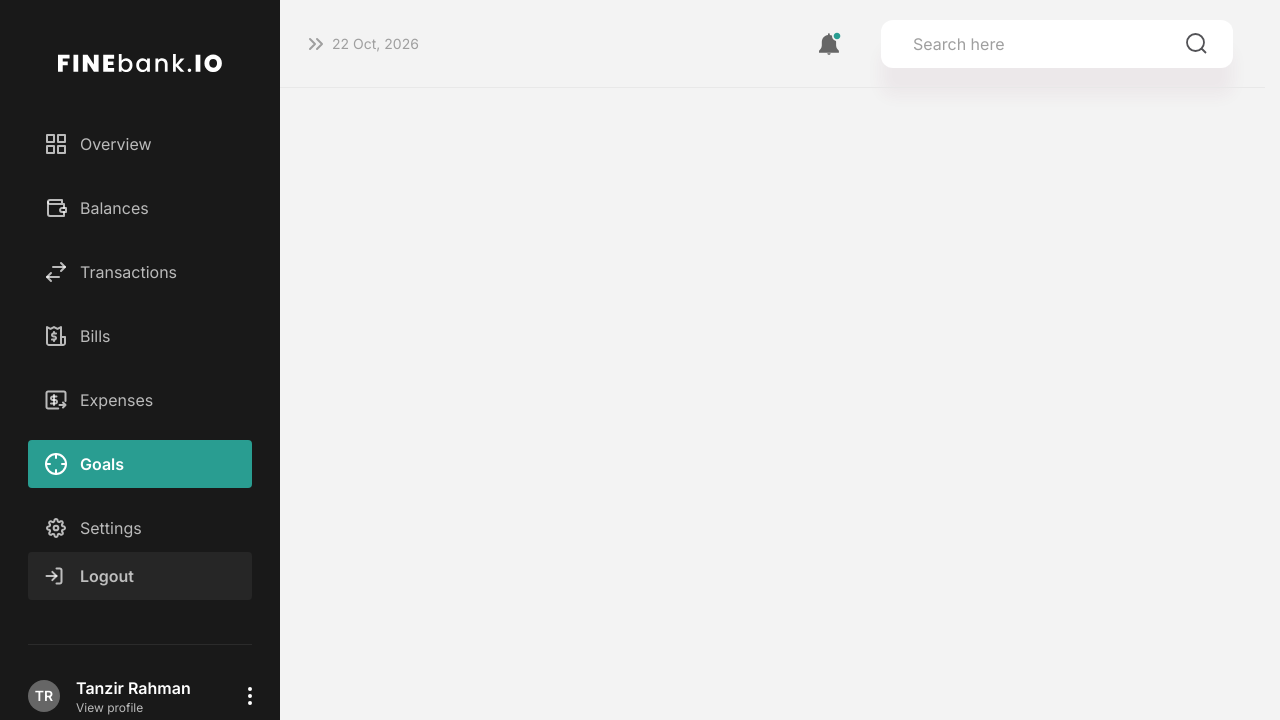
Test: Logout › opens /login without a return target, also when Login takes time to open
The image size is (1280, 720).
Check: the text "22 Oct, 2026" is shown, box [332,34,419,54]
Click the button "Logout" at (140, 576), box [28,552,252,600]
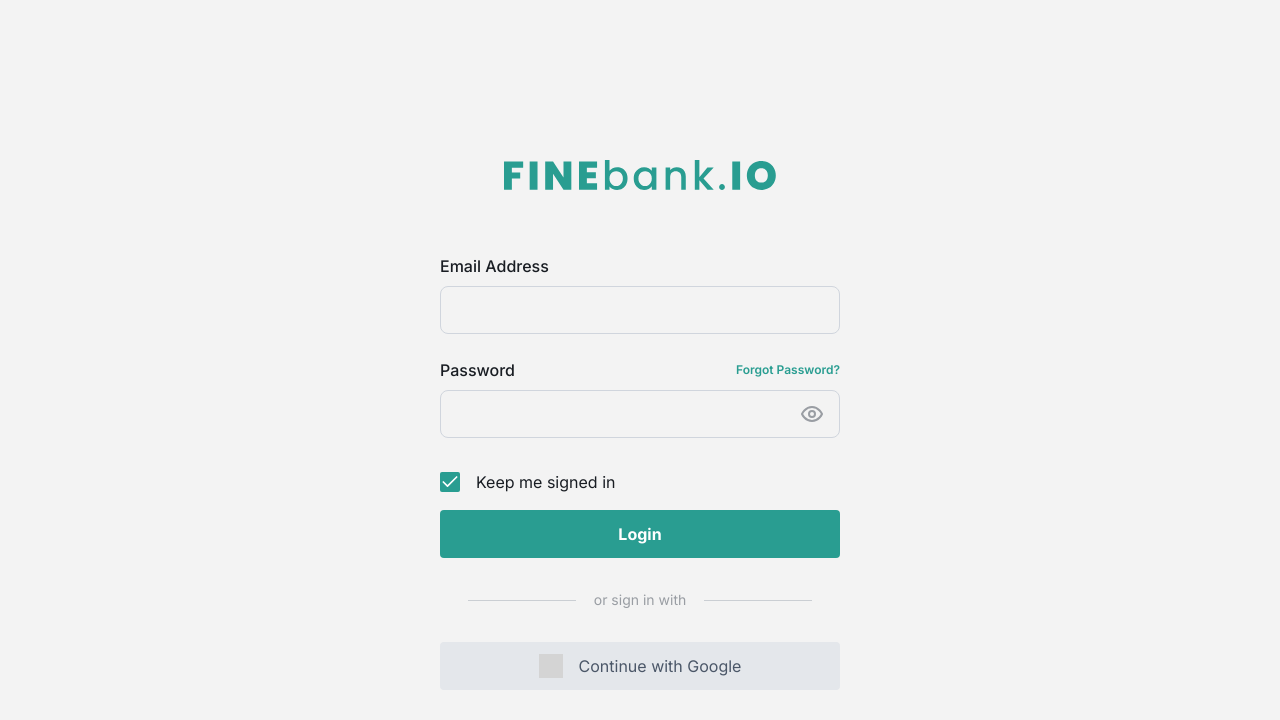
Check: the navigation bar "Main" is gone
Check: the button "Login" is shown, box [440,510,840,558]
